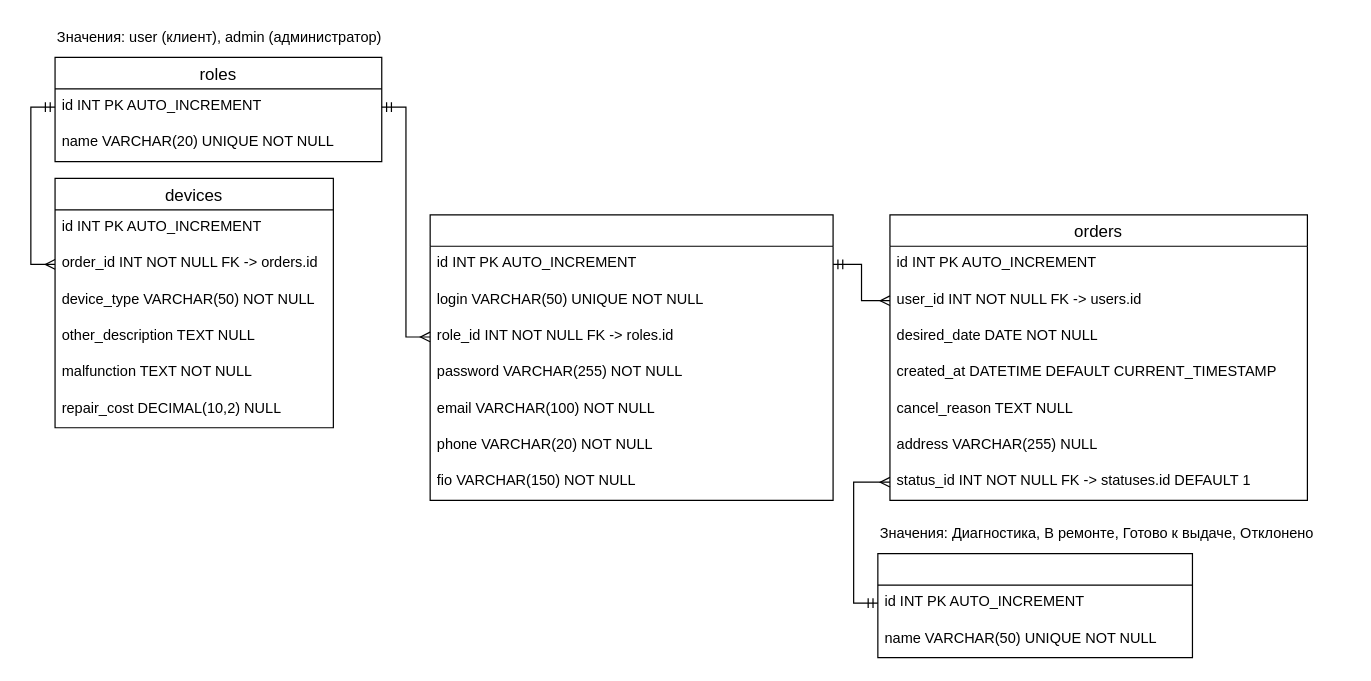
This 1371x681 diagram has some shape labels left out. The shapes that lost their labels are listed below. From the top down, each one's box as (x1, y1, x2, y2) in pixels, then its label:
(429, 214, 833, 500): users
(877, 552, 1192, 658): statuses
